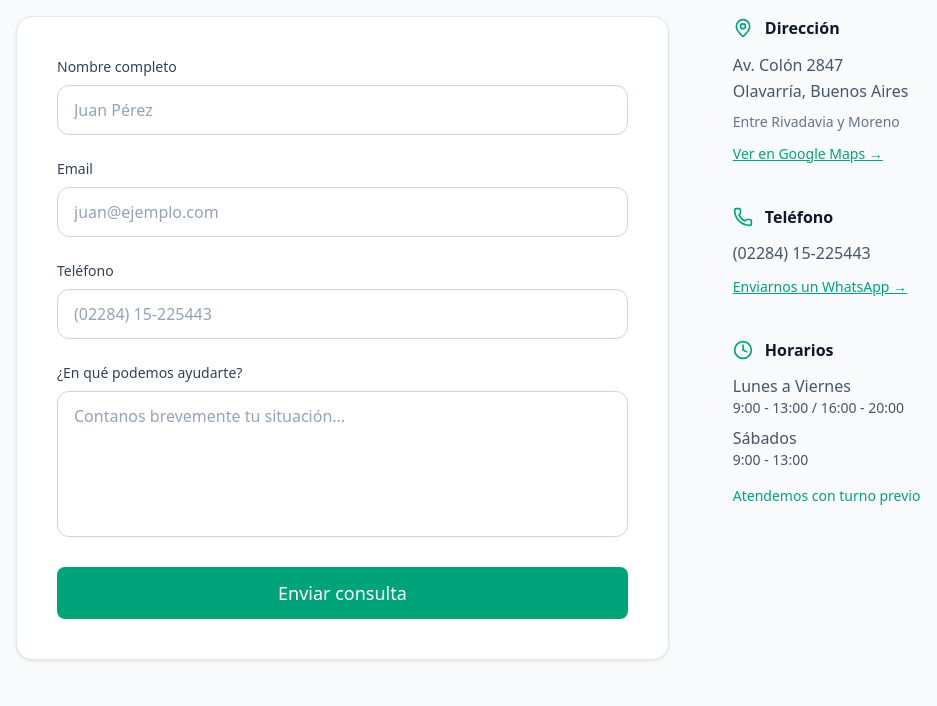
Test: Contact integration › campo message ejecuta handleBlur correctamente
The image size is (937, 706).
(page scrolled)
Escribir valor inválido
Type "Corto" into the text box labelled "¿En qué podemos ayudarte?".
click(342, 464); type("Corto")  # box top-left (57, 391), bottom-right (628, 537)
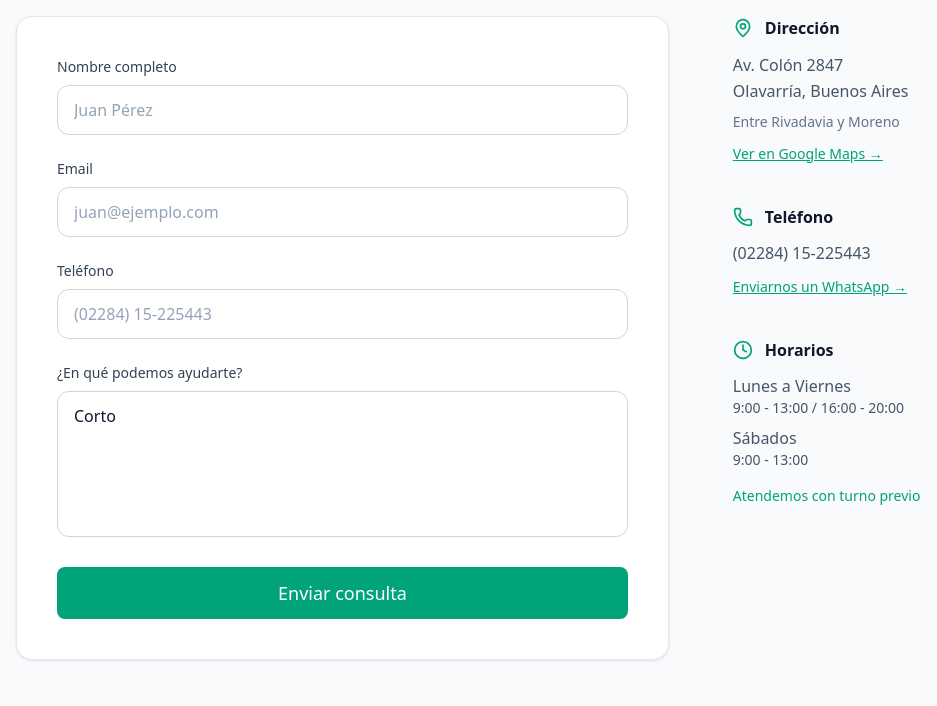
Hacer blur (línea 119 de Contact.tsx)
Leave the text box labelled "¿En qué podemos ayudarte?", box top-left (57, 391), bottom-right (628, 537)
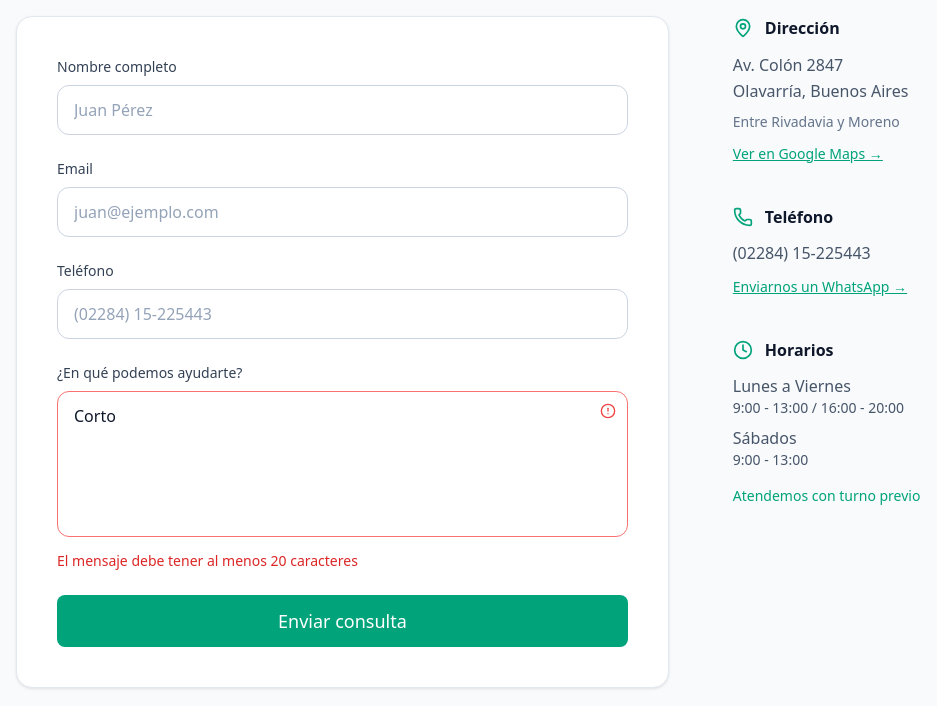
Result: the text "El mensaje debe tener al menos 20 caracteres" is shown at top-left (57, 551), bottom-right (358, 570)
